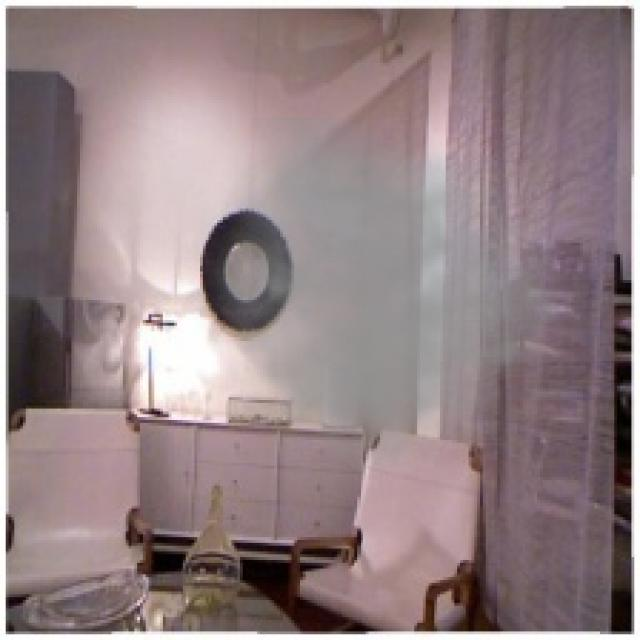smoke: (180, 117, 577, 509)
